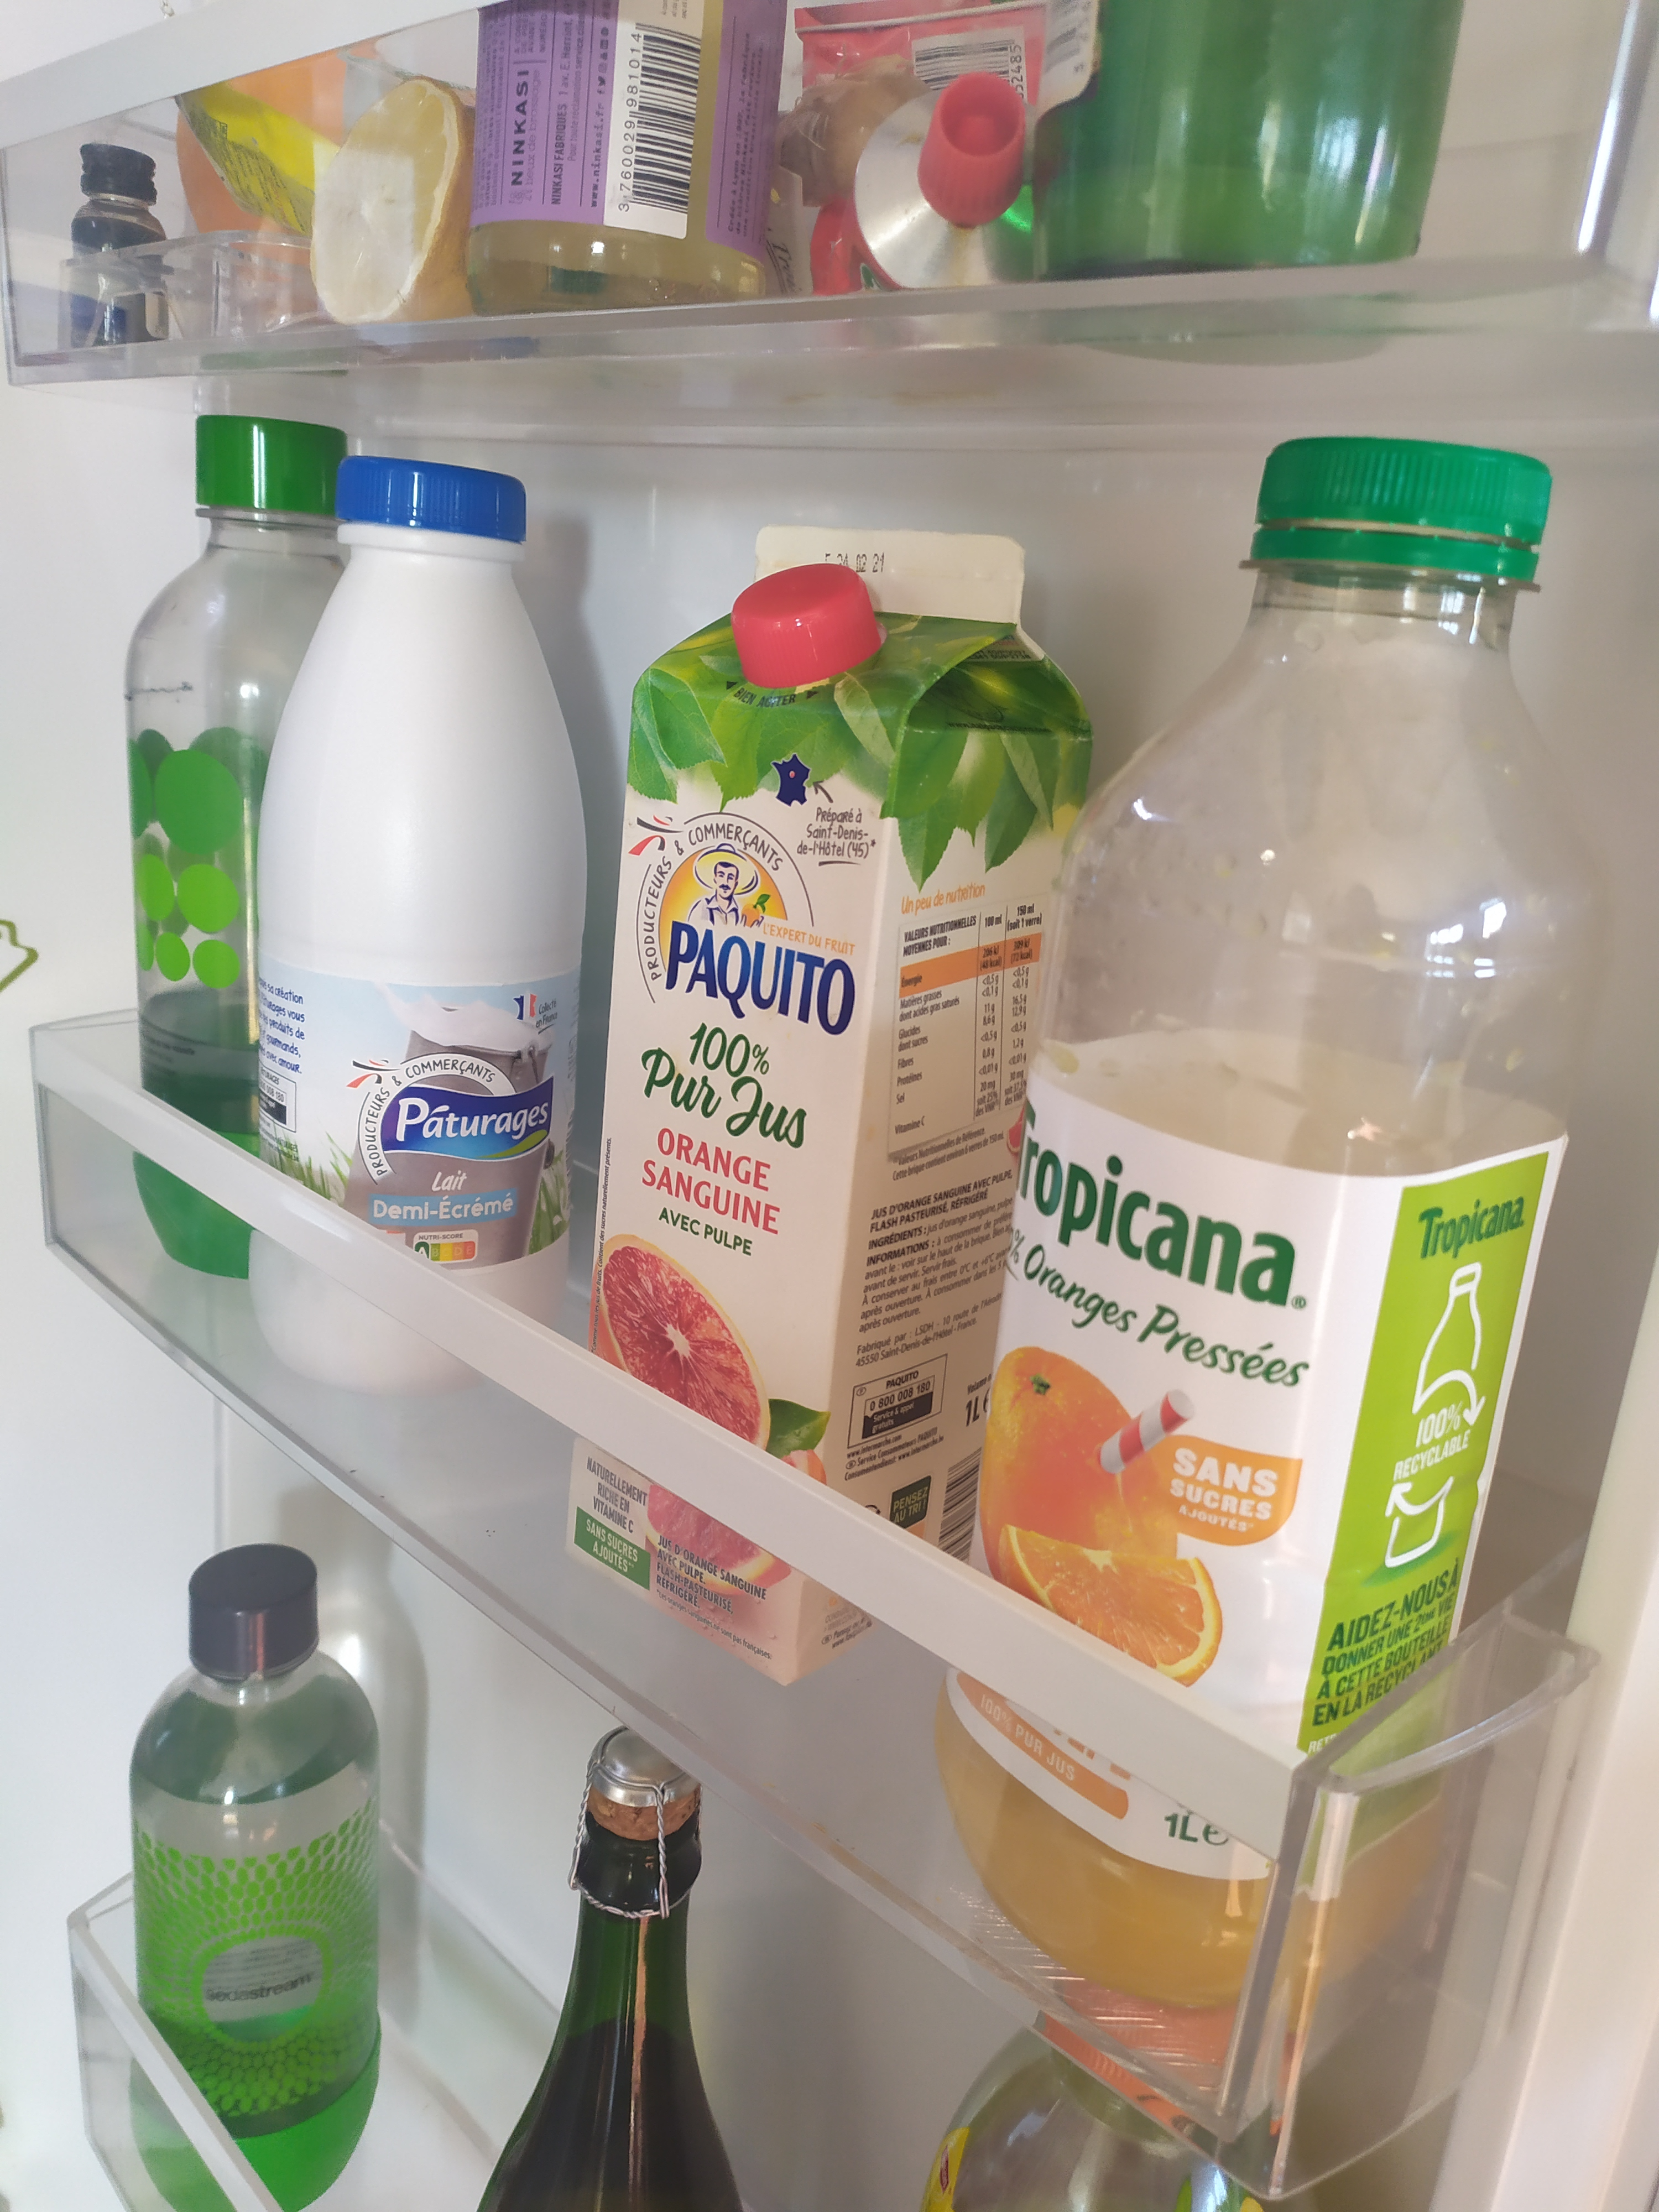bottle: (946, 444, 1593, 2017), (582, 526, 1108, 1672), (132, 420, 357, 1270), (134, 1555, 399, 2210), (486, 1719, 802, 2212), (458, 0, 814, 307), (911, 1968, 1330, 2212)
lemon: (305, 75, 563, 343)
milk: (260, 442, 594, 1386)
